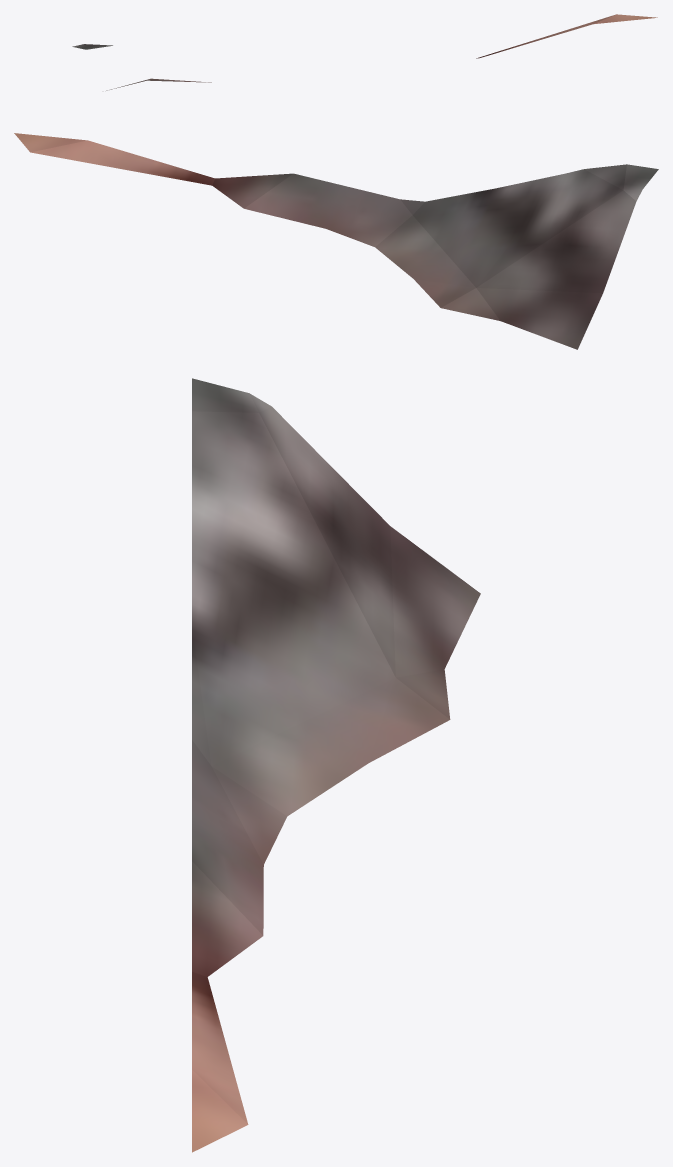
3 views of the same model, one above another, from view 1: azimuth 30°, elevation 25°; view 2: azimuth 150°, elevation 25°; view 3: azimuth 270°, elevation 25° (orthographic). The views are drawn at different scales.
Size of the model in its own units: 0.7478 by 0.1343 by 0.1633.
1 material, 1 textured.
